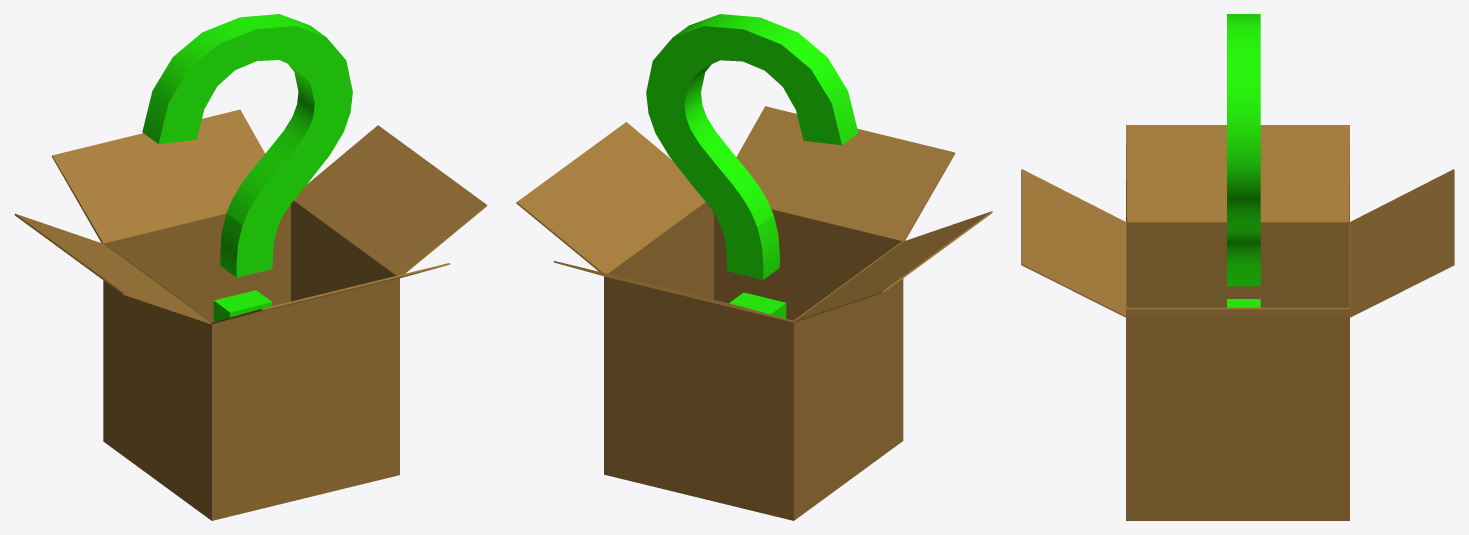
File: pytajnik.FBX
The picture shows the model from 3 angles, left to right: view 1: azimuth 30°, elevation 25°; view 2: azimuth 150°, elevation 25°; view 3: azimuth 270°, elevation 25°; orthographic projection. The views are drawn at different scales.
Visible parts, largest first — view 1: pudlo, pytajnik; view 2: pudlo, pytajnik; view 3: pudlo, pytajnik.
Boxes of the visible parts, <box> form: pudlo: <box>14,109,487,520</box>; pytajnik: <box>142,14,352,321</box>; pudlo: <box>516,106,992,520</box>; pytajnik: <box>646,14,858,318</box>; pudlo: <box>1021,125,1454,520</box>; pytajnik: <box>1227,14,1260,307</box>.
Bounding box in the file's own units: 77.43 × 77.43 × 87.94.
